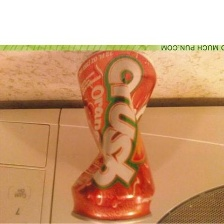can: (68, 48, 160, 224)
